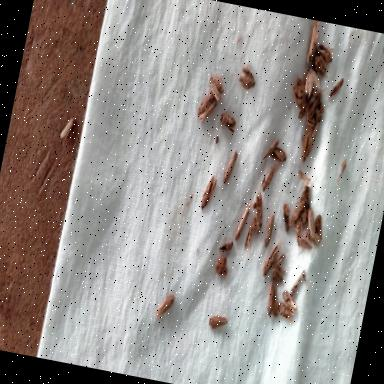pbw: (250, 188, 270, 234), (289, 75, 311, 115), (262, 239, 283, 279), (302, 206, 324, 244), (235, 198, 253, 244), (200, 171, 219, 211), (306, 20, 322, 64), (304, 66, 324, 100), (264, 278, 280, 317), (262, 209, 278, 248), (268, 280, 284, 317), (304, 90, 322, 122), (288, 198, 306, 230), (223, 149, 239, 184), (156, 290, 176, 318), (58, 114, 76, 144), (307, 120, 321, 158), (296, 193, 312, 226), (218, 110, 240, 134), (290, 266, 306, 298), (262, 135, 280, 163), (262, 161, 278, 192), (207, 74, 226, 100), (244, 214, 258, 249), (279, 202, 295, 232), (238, 66, 258, 89), (312, 51, 330, 76), (312, 212, 328, 240), (328, 74, 345, 100), (276, 298, 296, 320), (280, 289, 300, 311), (198, 93, 216, 117), (301, 127, 313, 162), (316, 42, 336, 62), (208, 313, 229, 332), (296, 232, 316, 249), (292, 216, 304, 240), (272, 250, 286, 270), (299, 204, 311, 227), (298, 98, 310, 120), (273, 146, 289, 162), (270, 268, 286, 284), (219, 238, 235, 252), (314, 104, 324, 121), (305, 116, 318, 128)
